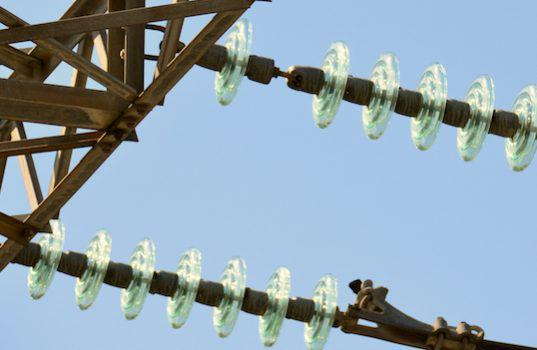gap: (214, 16, 351, 131)
